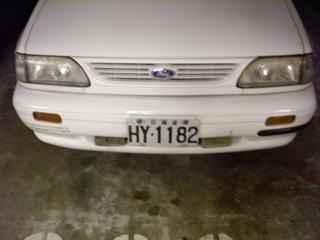plate: (124, 117, 202, 148)
